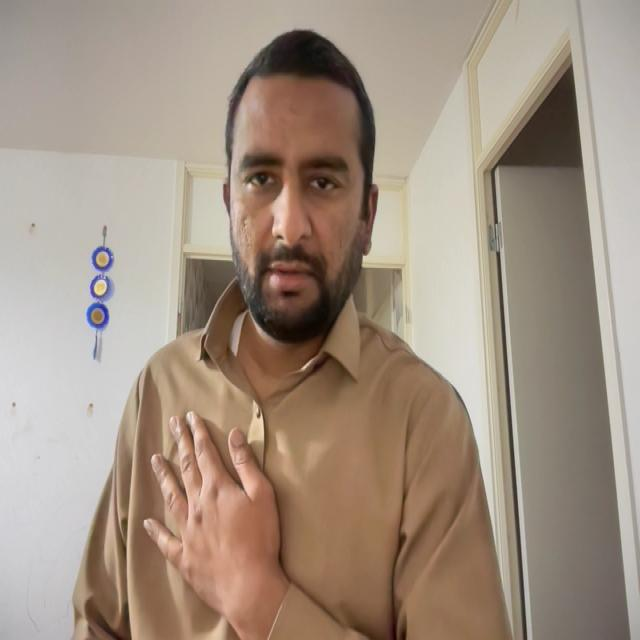Please: (130, 396, 312, 635)
